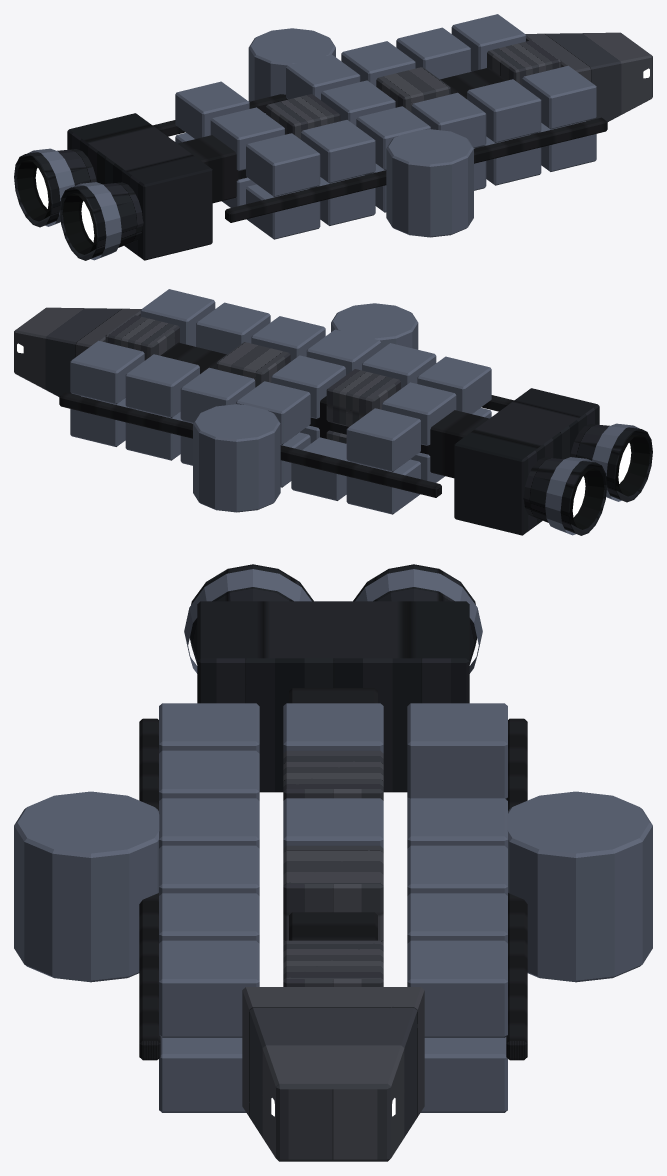
The model's file is supply_ship.glb.
3 renders of one model, top to bottom at view 1: azimuth 30°, elevation 25°; view 2: azimuth 150°, elevation 25°; view 3: azimuth 270°, elevation 25°, orthographic. The views are drawn at different scales.
Visible parts, largest first — view 1: supply_ship; view 2: supply_ship; view 3: supply_ship.
Boxes of the visible parts, x1=… form: supply_ship: x1=14, y1=14, x2=652, y2=260; supply_ship: x1=14, y1=289, x2=652, y2=535; supply_ship: x1=14, y1=564, x2=652, y2=1161.
Bounding box in the file's own units: 40 × 5 × 21.6.
Materials: 1 (1 with a texture image).
